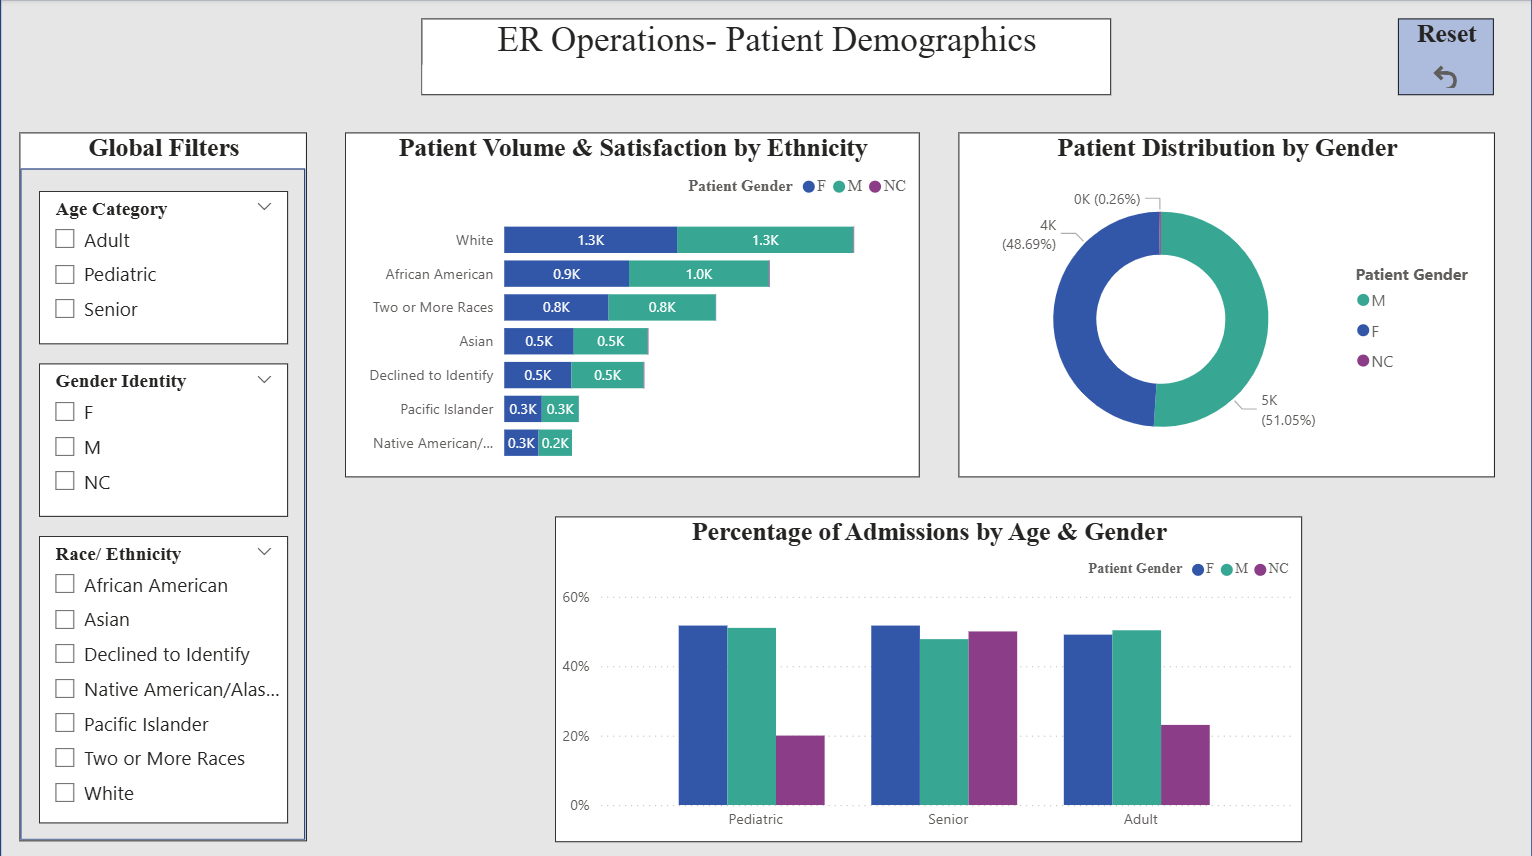

Layout of this report page (visuals, bound fields, positions):
{"tool":"powerbi","page":{"name":"Patient Demographics","canvas":[1280,720],"ordinal":2},"visuals":[{"type":"shape","box":[0,0,1280,720],"z":0},{"type":"shape","title":"Global Filters","box":[16,112,240,592],"z":1000},{"type":"shape","title":"ER Operations- Patient Demographics","box":[352,16,576,64],"z":2000},{"type":"barChart","title":"Patient Volume & Satisfaction  by Ethnicity","fields":{"Category":["er ER_Visits.PATIENT_RACE"],"Y":["er ER_Visits.TOTAL PATIENTS"],"Series":["er ER_Visits.PATIENT_GENDER"]},"box":[288,112,480,288],"z":3000},{"type":"clusteredColumnChart","title":"Percentage of Admissions by Age & Gender","fields":{"Category":["er ER_Visits.AGE_GROUP"],"Y":["er ER_Visits.ADMISSION RATE PCT"],"Series":["er ER_Visits.PATIENT_GENDER"]},"box":[464,432,624,272],"z":4000},{"type":"donutChart","title":"Patient Distribution by Gender","fields":{"Category":["er ER_Visits.PATIENT_GENDER"],"Y":["er ER_Visits.TOTAL PATIENTS"]},"box":[800,112,448,288],"z":5000},{"type":"slicer","fields":{"Values":["er ER_Visits.AGE_GROUP"]},"box":[32,160,208,128],"z":6000},{"type":"slicer","fields":{"Values":["er ER_Visits.PATIENT_GENDER"]},"box":[32,304,208,128],"z":7000},{"type":"slicer","fields":{"Values":["er ER_Visits.PATIENT_RACE"]},"box":[32,448,208,240],"z":8000},{"type":"actionButton","title":"Reset","box":[1168,16,80,64],"z":9000}]}

Visuals, with their boxes in screenshot pixels (x1, y1, x2, y2), scaled from the page's 1280x720 canvas onto the 1532x856 screenshot:
shape: {"x1": 0, "y1": 0, "x2": 1531, "y2": 855}
"Global Filters" shape: {"x1": 19, "y1": 133, "x2": 306, "y2": 837}
"ER Operations- Patient Demographics" shape: {"x1": 421, "y1": 19, "x2": 1111, "y2": 95}
"Patient Volume & Satisfaction  by Ethnicity" barChart: {"x1": 345, "y1": 133, "x2": 919, "y2": 476}
"Percentage of Admissions by Age & Gender" clusteredColumnChart: {"x1": 555, "y1": 514, "x2": 1302, "y2": 837}
"Patient Distribution by Gender" donutChart: {"x1": 957, "y1": 133, "x2": 1494, "y2": 476}
slicer - er ER_Visits.AGE_GROUP: {"x1": 38, "y1": 190, "x2": 287, "y2": 342}
slicer - er ER_Visits.PATIENT_GENDER: {"x1": 38, "y1": 361, "x2": 287, "y2": 514}
slicer - er ER_Visits.PATIENT_RACE: {"x1": 38, "y1": 533, "x2": 287, "y2": 818}
"Reset" actionButton: {"x1": 1398, "y1": 19, "x2": 1494, "y2": 95}
